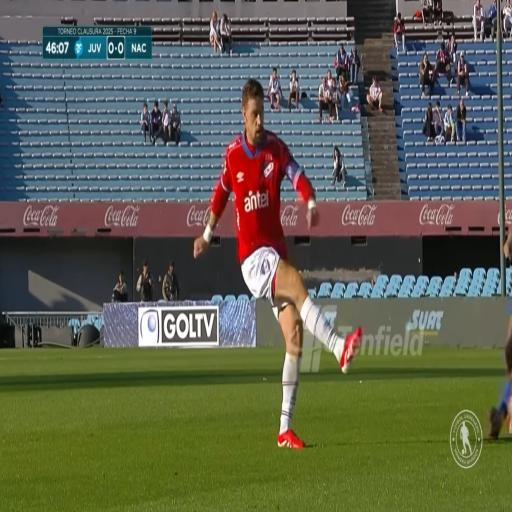Player: (218, 82, 334, 459)
